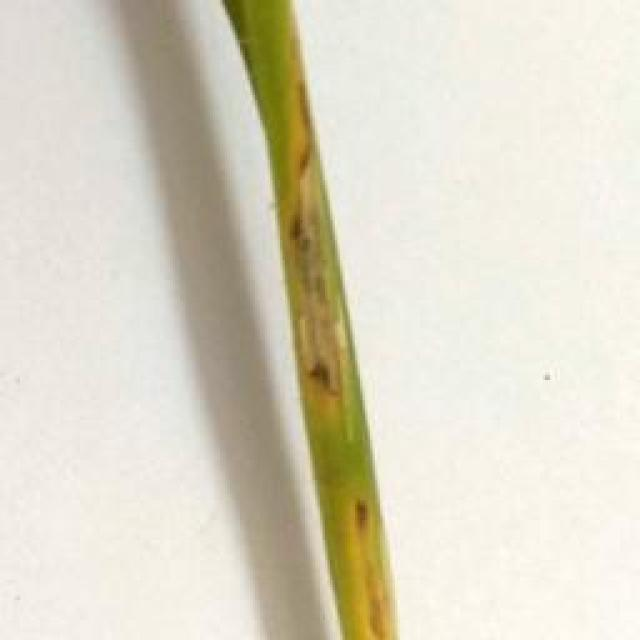Bacterial_Blight: (269, 76, 346, 422), (337, 487, 394, 640)
